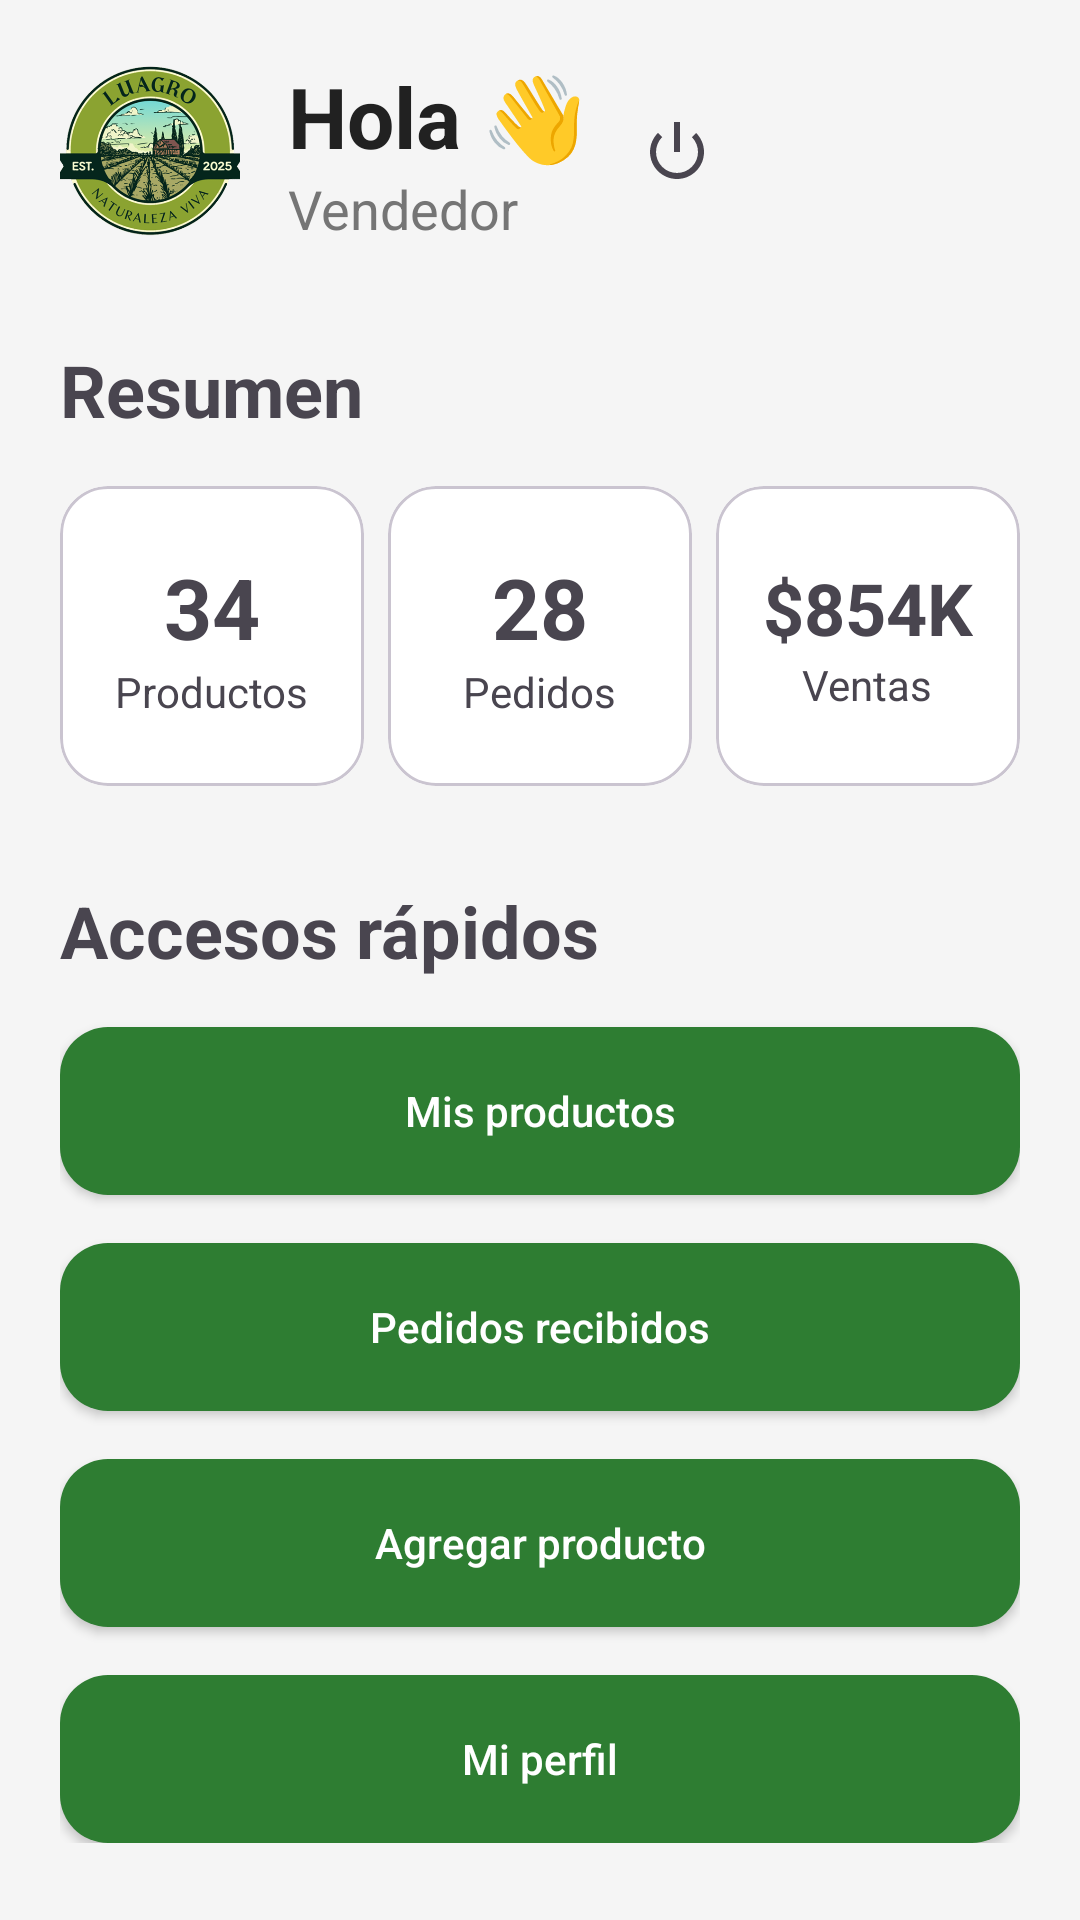

Where to tap for icons on this 1080w x 1920h app screen, as (x,y):
Cerrar sesión: (677,150)
